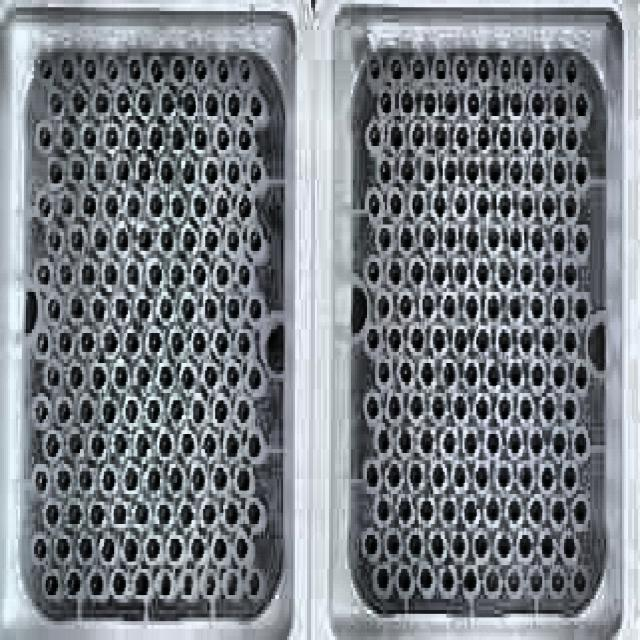vial: (372, 560, 394, 602), (416, 560, 437, 600), (43, 428, 65, 465), (111, 356, 133, 393), (45, 220, 65, 260), (394, 560, 414, 599), (364, 321, 384, 359), (213, 258, 232, 298), (373, 287, 394, 323), (362, 528, 381, 567), (429, 321, 449, 358), (397, 286, 417, 323), (428, 459, 448, 496), (147, 255, 167, 292), (100, 322, 120, 359), (30, 462, 51, 497), (167, 393, 188, 428), (86, 566, 107, 601), (461, 561, 480, 599), (439, 562, 458, 600), (571, 358, 591, 394), (450, 390, 470, 426), (537, 529, 557, 565), (88, 429, 108, 465), (177, 358, 197, 394), (168, 258, 189, 292), (54, 465, 75, 499), (246, 294, 265, 331), (133, 357, 152, 394), (91, 221, 109, 260), (396, 424, 416, 459), (46, 155, 66, 190), (66, 224, 86, 259), (143, 530, 163, 565), (75, 531, 96, 564), (561, 56, 580, 92), (560, 461, 579, 497), (462, 423, 480, 461), (550, 426, 569, 462), (494, 527, 513, 563), (516, 527, 535, 563), (505, 494, 524, 530), (122, 256, 141, 292), (235, 256, 253, 294), (181, 85, 200, 121), (200, 426, 218, 464), (45, 290, 63, 328), (44, 358, 63, 394), (31, 392, 50, 428), (33, 188, 53, 222), (452, 323, 470, 360), (482, 493, 500, 530), (386, 322, 405, 357), (169, 122, 188, 157), (245, 429, 264, 464), (133, 496, 152, 531), (54, 257, 74, 290), (235, 54, 255, 87), (79, 121, 99, 154), (407, 456, 425, 492), (528, 291, 546, 327), (551, 358, 569, 394), (157, 152, 175, 188), (226, 291, 244, 327), (471, 529, 490, 563), (63, 564, 82, 598), (406, 322, 426, 354), (538, 462, 558, 494), (145, 187, 165, 219), (65, 498, 85, 530), (43, 500, 63, 532), (98, 535, 118, 567), (560, 325, 578, 360), (169, 189, 187, 224), (147, 54, 165, 89), (80, 53, 98, 88), (78, 393, 96, 428), (454, 118, 471, 155), (110, 498, 129, 531), (122, 533, 141, 566), (77, 258, 97, 289), (487, 153, 505, 187), (375, 424, 393, 458), (451, 459, 469, 493), (572, 426, 589, 462), (573, 293, 591, 327), (59, 187, 77, 221), (102, 188, 120, 222), (223, 361, 241, 395), (132, 566, 150, 600), (407, 188, 426, 220), (462, 224, 481, 256), (405, 529, 424, 561), (54, 533, 73, 565), (190, 191, 210, 221), (224, 89, 244, 119), (475, 121, 492, 156), (364, 390, 381, 425), (375, 356, 392, 391), (528, 356, 545, 391), (527, 493, 544, 528), (157, 359, 174, 394), (485, 222, 503, 255), (419, 288, 437, 321), (428, 389, 446, 422), (451, 530, 469, 563), (178, 154, 197, 185), (59, 55, 78, 86), (201, 360, 220, 391), (376, 222, 393, 256), (551, 154, 568, 188), (386, 391, 403, 425), (114, 222, 131, 256), (135, 89, 152, 123), (527, 428, 545, 460), (440, 358, 458, 390), (102, 259, 120, 291), (193, 255, 209, 291), (170, 56, 188, 88), (124, 120, 142, 152), (190, 326, 208, 358), (111, 428, 129, 460), (31, 534, 49, 566), (235, 190, 254, 220), (102, 56, 121, 86), (102, 124, 121, 154), (69, 88, 88, 118), (78, 328, 97, 358), (430, 257, 447, 290), (550, 223, 567, 256), (529, 155, 546, 188), (429, 528, 446, 561), (158, 219, 175, 252), (100, 394, 117, 427), (247, 359, 264, 392), (167, 532, 184, 565), (439, 497, 459, 525), (92, 87, 112, 115), (122, 392, 138, 427), (562, 192, 580, 223), (463, 157, 481, 188), (507, 294, 525, 325), (560, 532, 578, 563), (384, 529, 402, 560), (48, 89, 66, 120), (212, 327, 230, 358), (236, 329, 254, 360), (132, 429, 150, 460), (213, 395, 231, 426), (189, 535, 207, 566), (201, 498, 219, 529), (365, 120, 382, 152), (497, 189, 513, 223), (518, 391, 534, 425), (497, 325, 513, 359), (59, 123, 75, 157), (193, 54, 210, 86), (159, 86, 176, 118), (125, 186, 141, 220), (179, 427, 196, 459), (223, 429, 240, 461), (88, 498, 105, 530), (189, 395, 206, 427), (156, 568, 173, 600), (496, 460, 514, 490), (246, 88, 264, 118), (78, 465, 96, 495), (69, 292, 87, 322), (110, 568, 128, 598), (154, 501, 173, 529), (452, 187, 468, 220), (474, 187, 490, 220), (419, 425, 435, 458), (397, 494, 413, 527), (34, 325, 50, 358), (68, 360, 84, 393), (541, 192, 558, 223), (385, 460, 402, 491), (562, 394, 579, 425), (507, 358, 524, 389), (408, 391, 425, 422), (247, 226, 264, 257), (214, 189, 231, 220), (204, 88, 221, 119), (168, 327, 185, 358), (57, 327, 74, 358), (235, 395, 252, 426), (541, 123, 559, 152), (215, 123, 233, 152), (42, 571, 60, 600), (399, 85, 415, 117), (399, 357, 415, 389), (463, 497, 479, 529), (92, 293, 108, 325), (178, 500, 194, 532), (409, 258, 426, 288), (529, 224, 546, 254), (473, 393, 490, 423), (225, 224, 242, 254), (203, 155, 220, 185), (114, 155, 131, 185), (122, 465, 139, 495), (144, 395, 161, 425), (146, 327, 163, 357), (211, 463, 228, 493), (166, 463, 183, 493), (69, 153, 87, 181), (112, 294, 130, 322), (475, 55, 491, 86), (563, 259, 579, 290), (366, 189, 382, 220), (387, 189, 403, 220), (508, 223, 524, 254), (507, 427, 523, 458), (518, 326, 534, 357), (475, 326, 491, 357), (441, 427, 457, 458), (215, 56, 231, 87), (203, 293, 219, 324), (136, 292, 152, 323), (124, 327, 140, 358), (190, 463, 205, 496), (518, 259, 535, 288), (363, 459, 380, 488), (147, 123, 164, 152), (55, 396, 72, 425), (573, 496, 587, 531), (553, 89, 568, 121), (574, 227, 589, 259), (442, 223, 458, 253), (410, 120, 426, 150), (497, 122, 513, 152), (486, 360, 502, 390), (541, 394, 556, 426), (540, 327, 556, 357), (550, 497, 566, 527), (36, 121, 52, 151), (36, 260, 52, 290), (92, 157, 108, 187), (452, 57, 469, 85), (461, 359, 478, 387), (237, 123, 254, 151), (91, 362, 108, 390), (563, 124, 578, 155), (388, 257, 403, 288), (551, 292, 566, 323), (419, 359, 434, 390), (519, 56, 535, 85), (519, 191, 535, 220), (465, 293, 481, 322), (137, 226, 153, 255), (248, 156, 264, 185), (225, 156, 241, 185), (192, 123, 208, 152), (81, 188, 97, 217), (68, 430, 84, 459), (234, 532, 250, 561), (223, 499, 239, 528), (498, 391, 512, 424), (441, 157, 458, 184), (441, 293, 458, 320), (180, 222, 197, 249), (388, 121, 403, 151), (399, 223, 414, 253), (486, 291, 501, 321), (128, 54, 143, 84), (432, 54, 448, 82), (100, 467, 116, 495), (158, 293, 174, 321), (179, 295, 195, 323), (465, 88, 480, 117), (444, 90, 459, 119), (508, 157, 523, 186), (473, 464, 488, 493), (212, 534, 227, 563), (246, 499, 261, 528), (574, 90, 588, 121), (521, 122, 535, 153), (486, 427, 500, 458), (572, 160, 588, 187), (376, 497, 392, 524), (38, 57, 54, 84), (542, 60, 557, 88), (497, 55, 512, 83), (486, 91, 501, 119), (379, 85, 393, 115), (422, 89, 437, 117), (519, 461, 533, 491), (203, 223, 218, 251), (116, 89, 131, 117), (236, 466, 251, 494), (420, 226, 436, 252), (509, 90, 523, 119), (541, 262, 555, 291), (434, 122, 448, 151), (158, 430, 172, 459), (530, 90, 545, 117), (432, 190, 447, 217), (137, 156, 152, 183), (401, 155, 414, 186), (419, 497, 435, 522), (366, 257, 380, 285), (368, 55, 382, 83), (147, 465, 161, 493), (411, 57, 426, 83), (423, 157, 436, 187), (454, 261, 468, 288), (389, 55, 403, 82), (379, 158, 393, 184), (476, 260, 489, 287), (498, 263, 510, 288)
